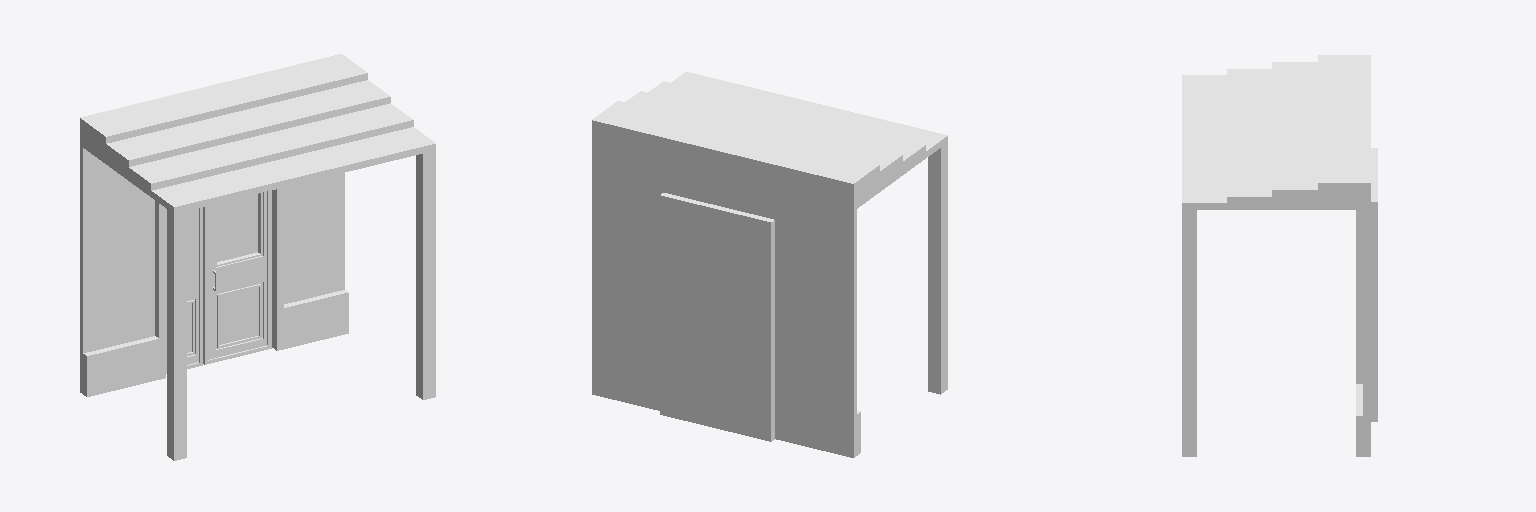
File: entrance1-2-lod1.obj
3 renders of one model, left to right at view 1: azimuth 30°, elevation 25°; view 2: azimuth 150°, elevation 25°; view 3: azimuth 270°, elevation 25°, orthographic.
Visible parts, largest first — view 1: lod1; view 2: lod1; view 3: lod1.
Boxes of the visible parts, x1,y1,x2,y2 form: lod1: [80, 54, 435, 460]; lod1: [592, 72, 947, 457]; lod1: [1182, 55, 1377, 456].
Bounding box in the file's own units: 16 × 16 × 10.4.